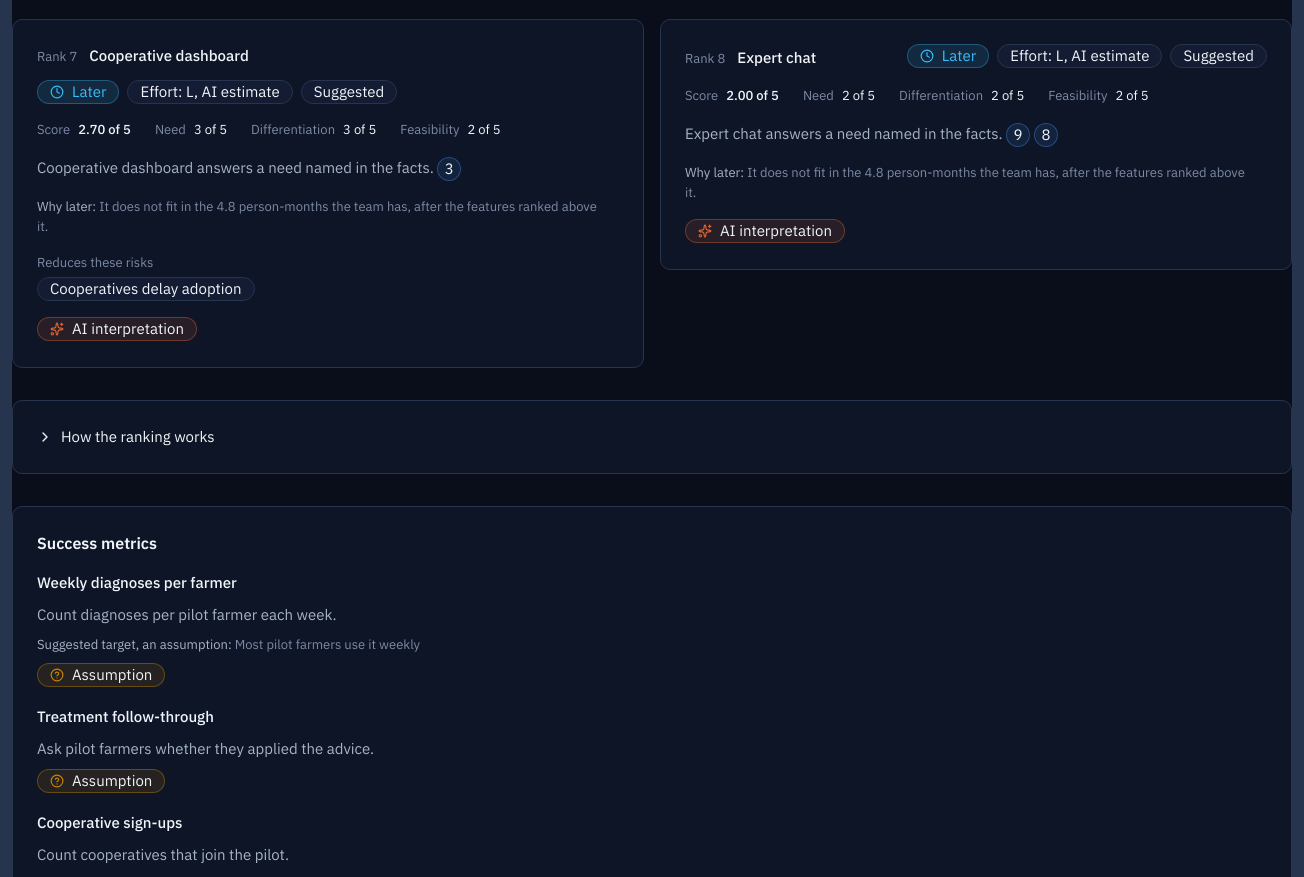
Test: MVP plan: ranking and metrics › explains how the ranking works with the documented weights and constants
(page scrolled)
Click the heading "How the ranking works" at (126, 437), box [37,427,215,446]
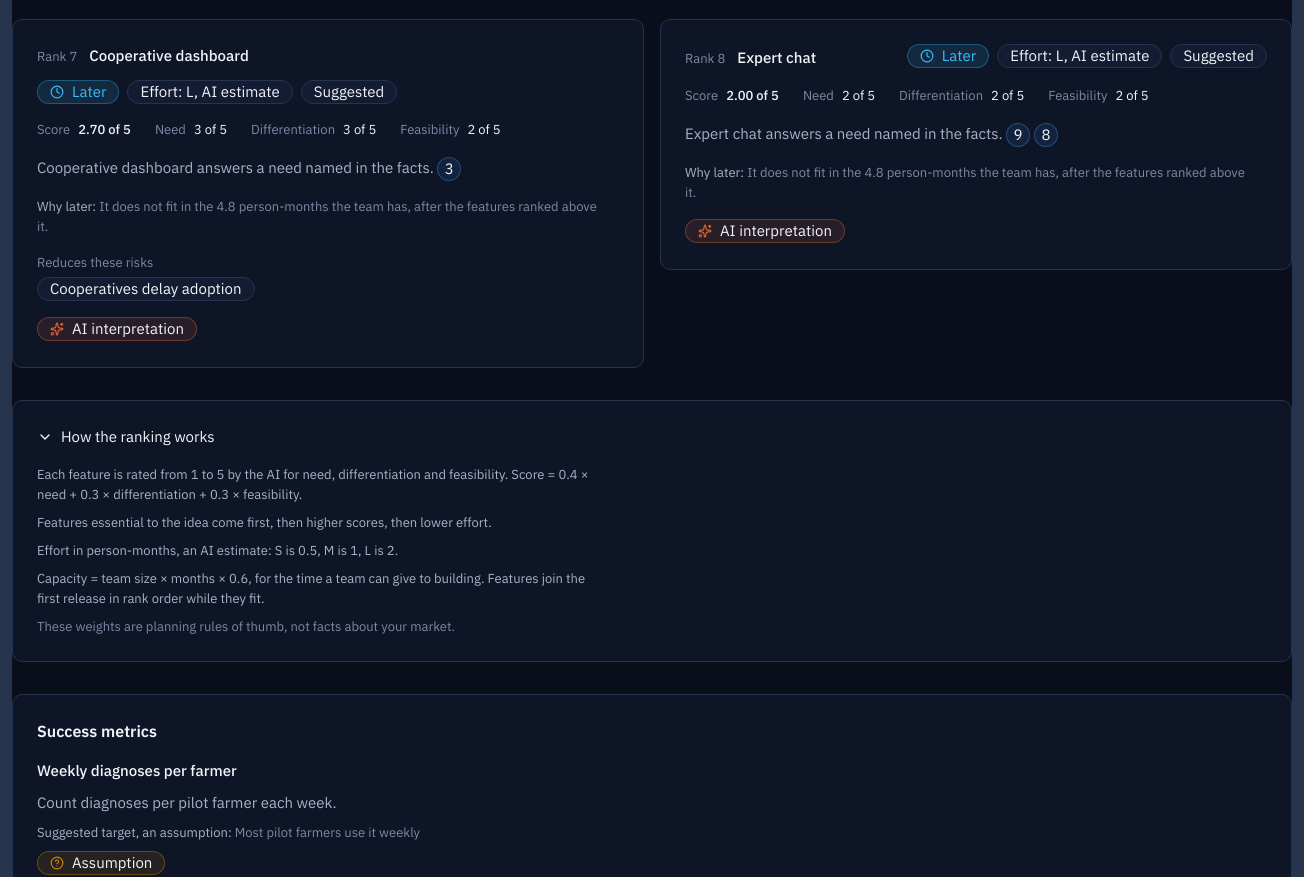
expect the text "How the ranking works" shows "Score = 0.4 × need + 0.3 × differentiation + 0.3 × feasibility.": met, box [12,400,1292,662]
expect the text "How the ranking works" shows "Features essential to the idea come first, then higher scores, then lower effort.": met, box [37,514,492,531]
expect the text "How the ranking works" shows "S is 0.5, M is 1, L is 2.": met, box [12,400,1292,662]
